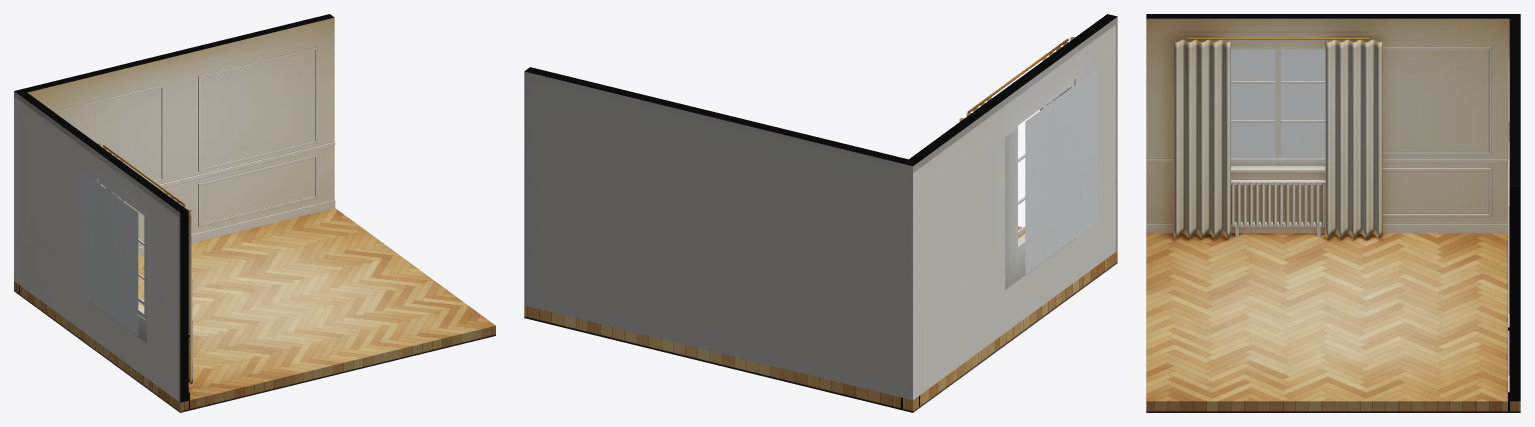
The model's file is jour.glb.
3 renders of one model, left to right at view 1: azimuth 30°, elevation 25°; view 2: azimuth 150°, elevation 25°; view 3: azimuth 270°, elevation 25°, orthographic. The views are drawn at different scales.
Parts seen in each view (by area): view 1: cuit_murs, cuit_sol; view 2: cuit_murs, cuit_sol; view 3: cuit_murs, cuit_sol.
Part boxes in pixels (box(x1,y1,x2,y2)): cuit_murs: box(14, 14, 495, 412); cuit_sol: box(14, 208, 495, 411); cuit_murs: box(524, 14, 1117, 412); cuit_sol: box(524, 226, 1117, 410); cuit_murs: box(1146, 14, 1520, 412); cuit_sol: box(1146, 233, 1520, 411).
Size of the model in its own units: 4.7 by 2.74 by 4.12.
Materials: 2 (2 with a texture image).
